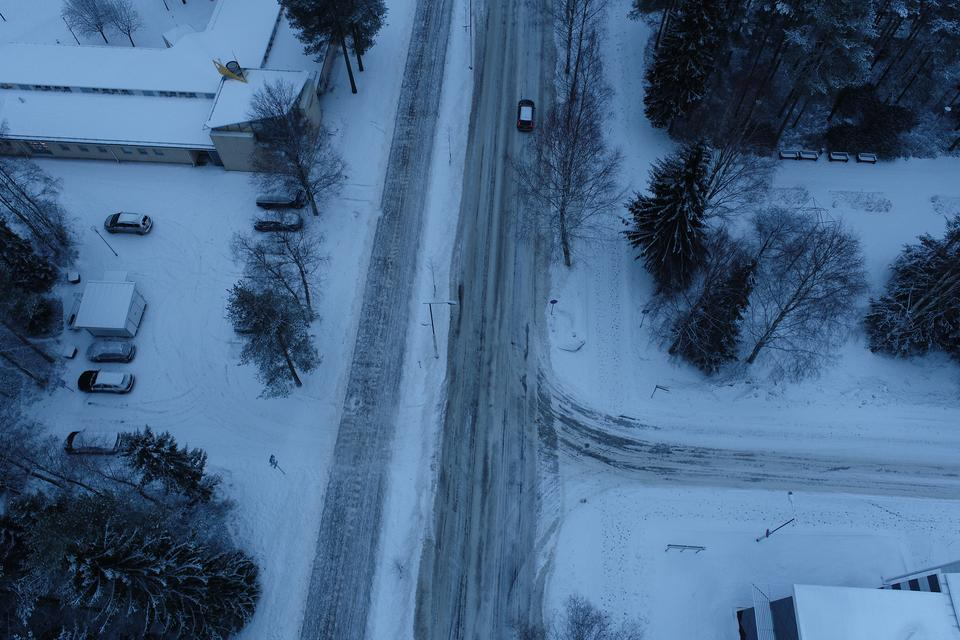intersection: (297, 355, 642, 556)
